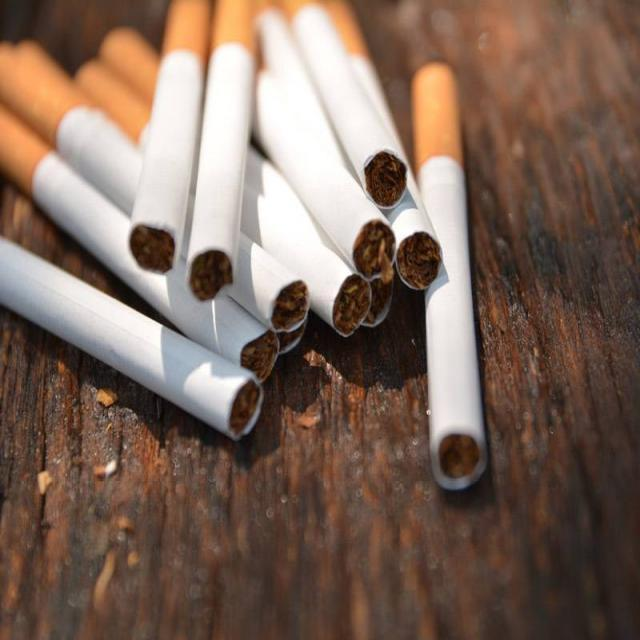cigarette: (411, 59, 485, 505)
